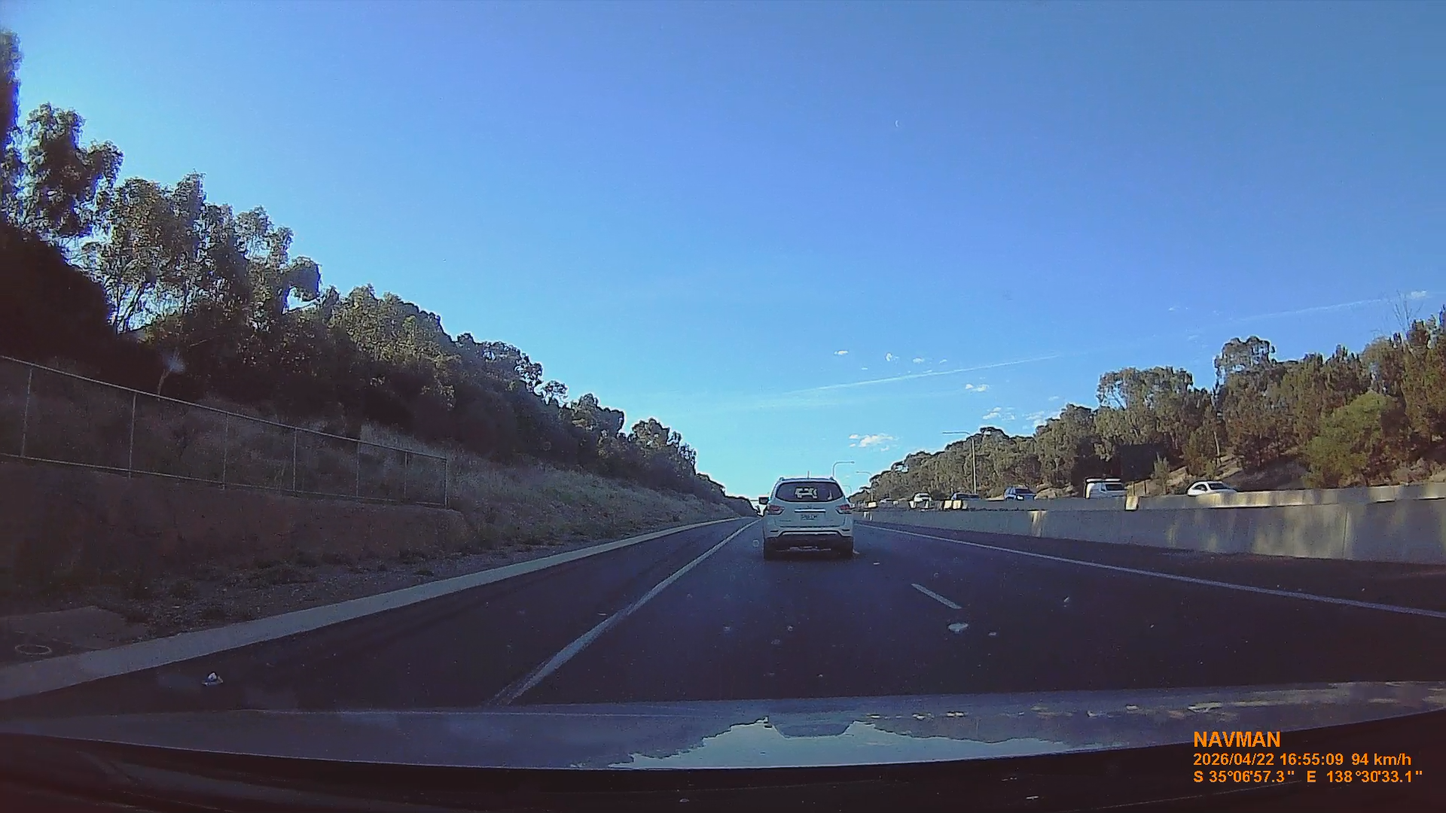fences: (0, 356, 449, 506)
road barriers: (859, 483, 1445, 565)
